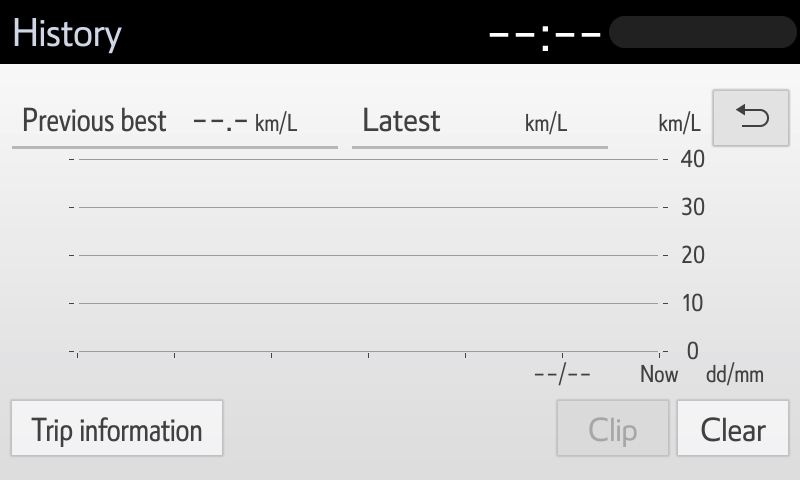touchPart: (9, 397, 230, 456), (673, 397, 795, 458), (707, 87, 793, 148)
untouchPart: (6, 90, 702, 385), (487, 10, 795, 54), (549, 397, 670, 463), (4, 7, 131, 52)
